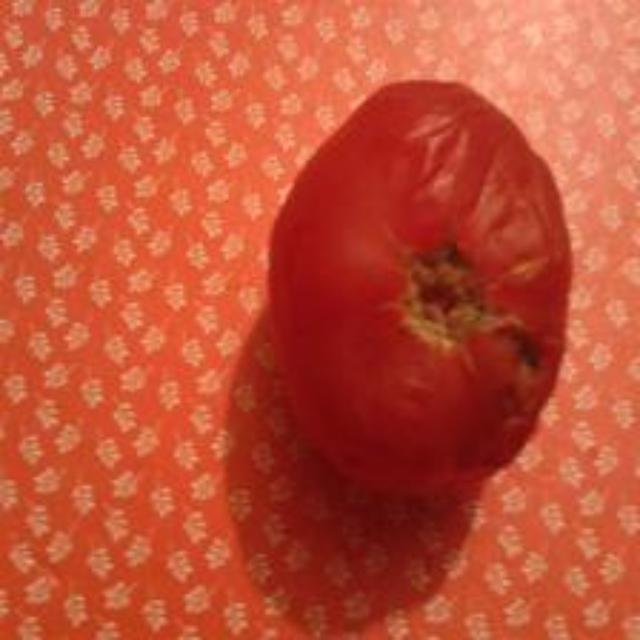defect: (262, 71, 578, 487)
